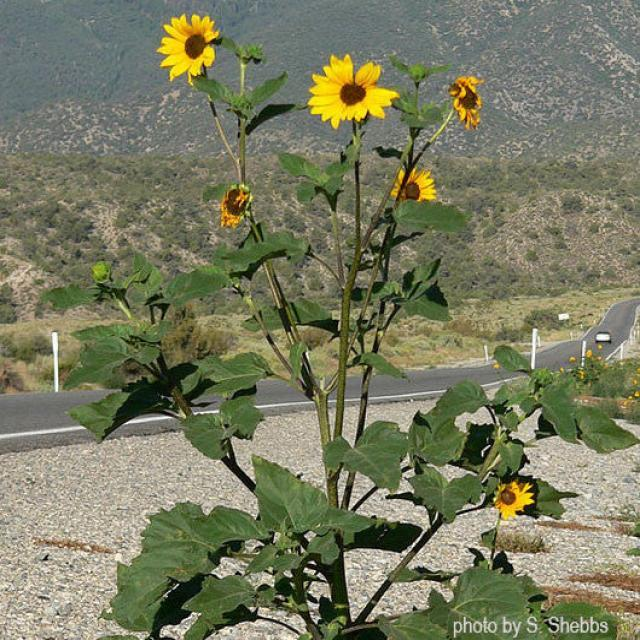sunflower: (306, 53, 399, 128), (156, 14, 218, 84), (389, 165, 436, 202), (493, 478, 534, 520), (450, 77, 483, 129), (220, 188, 249, 228)
